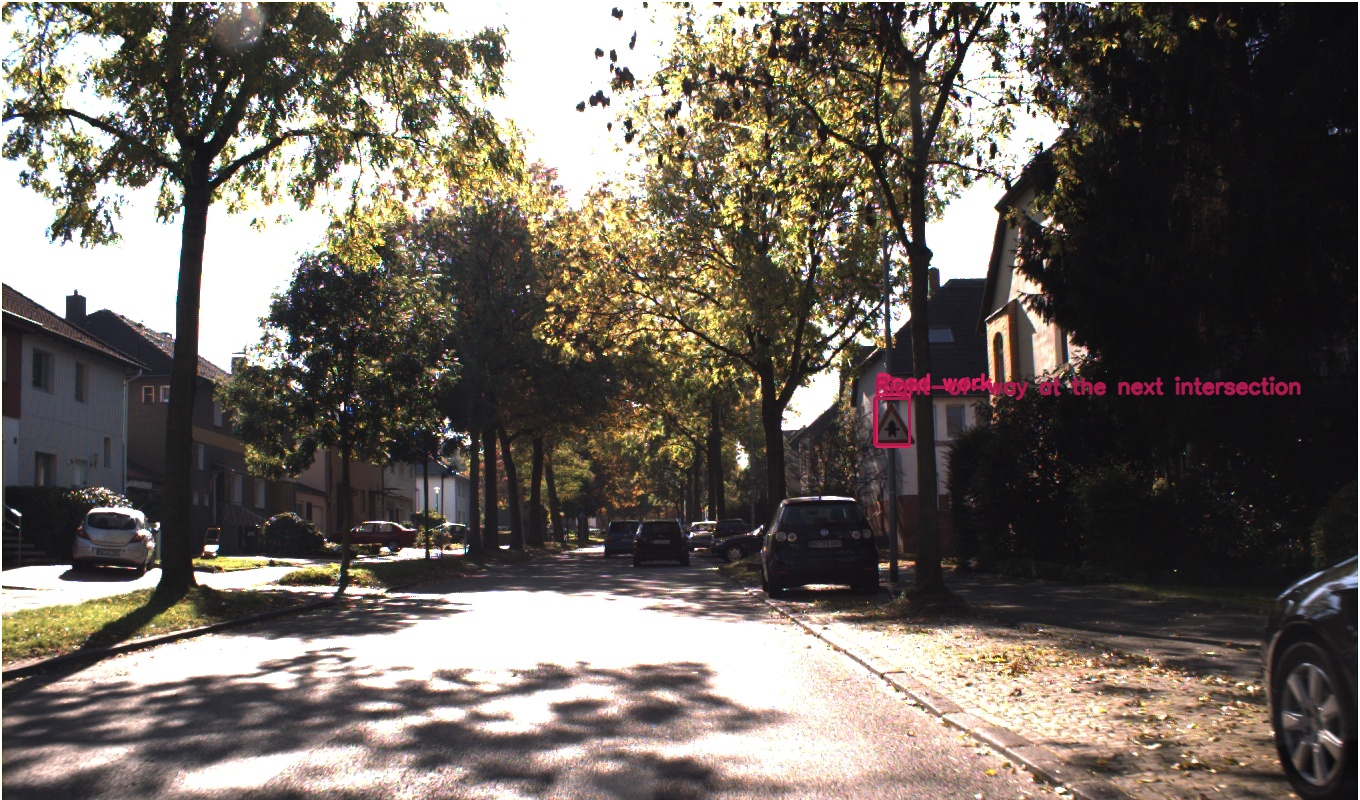Keep right: (668, 527, 690, 548)
